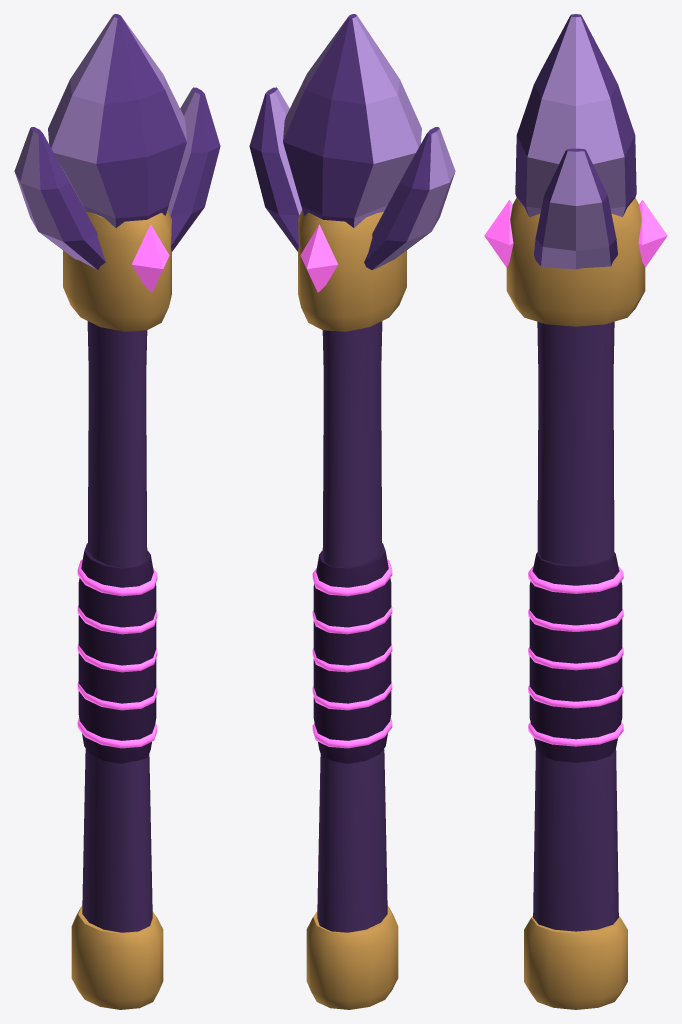
File: spear-epic.glb
The picture shows the model from 3 angles, left to right: view 1: azimuth 30°, elevation 25°; view 2: azimuth 150°, elevation 25°; view 3: azimuth 270°, elevation 25°; orthographic projection.
Visible parts, largest first — view 1: Body; view 2: Body; view 3: Body.
Boxes of the visible parts, x1=… form: Body: x1=14, y1=14, x2=220, y2=1009; Body: x1=249, y1=14, x2=455, y2=1009; Body: x1=484, y1=14, x2=667, y2=1009.
Bounding box in the file's own units: 0.1463 × 0.7 × 0.119.
